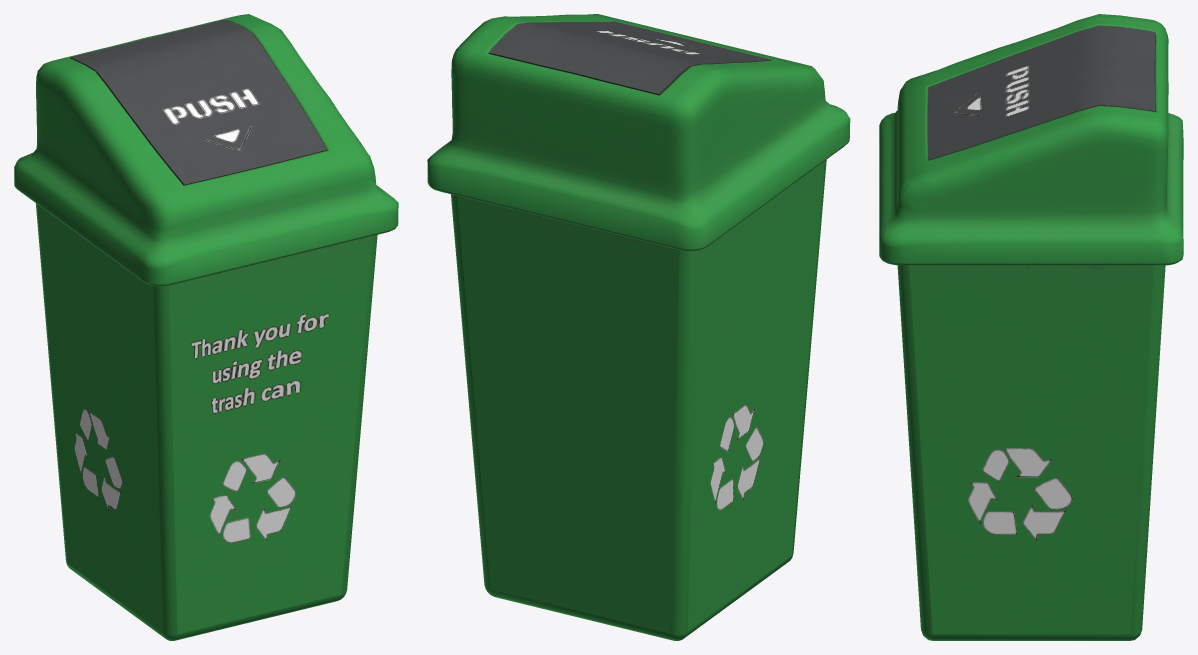
Rendered from ThungRac.fbx.
3 renders of one model, left to right at view 1: azimuth 30°, elevation 25°; view 2: azimuth 150°, elevation 25°; view 3: azimuth 270°, elevation 25°, orthographic. The views are drawn at different scales.
Visible parts, largest first — view 1: than_thung_rac, nap_thung_rac; view 2: than_thung_rac, nap_thung_rac; view 3: than_thung_rac, nap_thung_rac.
Boxes of the visible parts, x1,y1,x2,y2 form: than_thung_rac: (35,203,377,640); nap_thung_rac: (14,14,398,286); than_thung_rac: (451,159,826,640); nap_thung_rac: (427,14,850,251); than_thung_rac: (897,265,1165,640); nap_thung_rac: (879,14,1183,265).
Bounding box in the file's own units: 3.82 × 7.37 × 3.81.
Materials: 1 (1 with a texture image).
